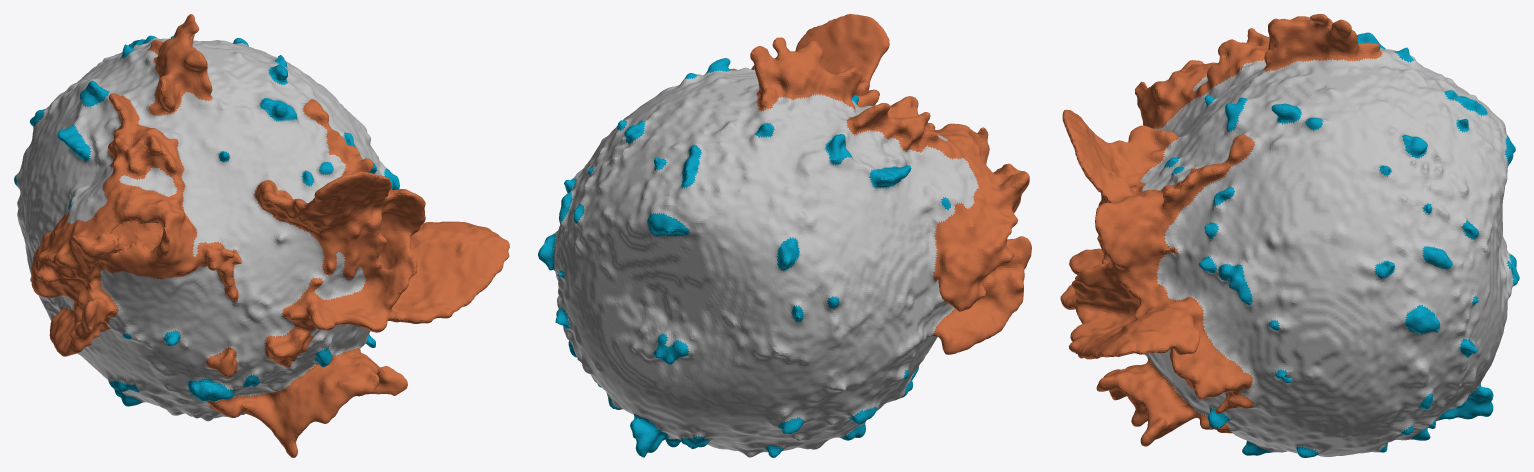
3 views of the same model, side by side, from view 1: azimuth 30°, elevation 25°; view 2: azimuth 150°, elevation 25°; view 3: azimuth 270°, elevation 25° (orthographic). The views are drawn at different scales.
Bounding box in the file's own units: 183 × 164 × 164.
